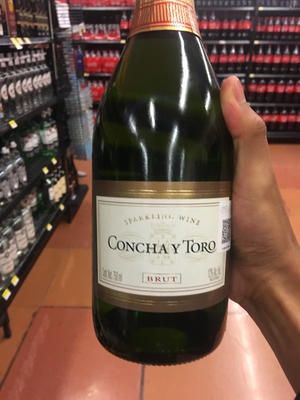brut: (87, 18, 245, 367)
